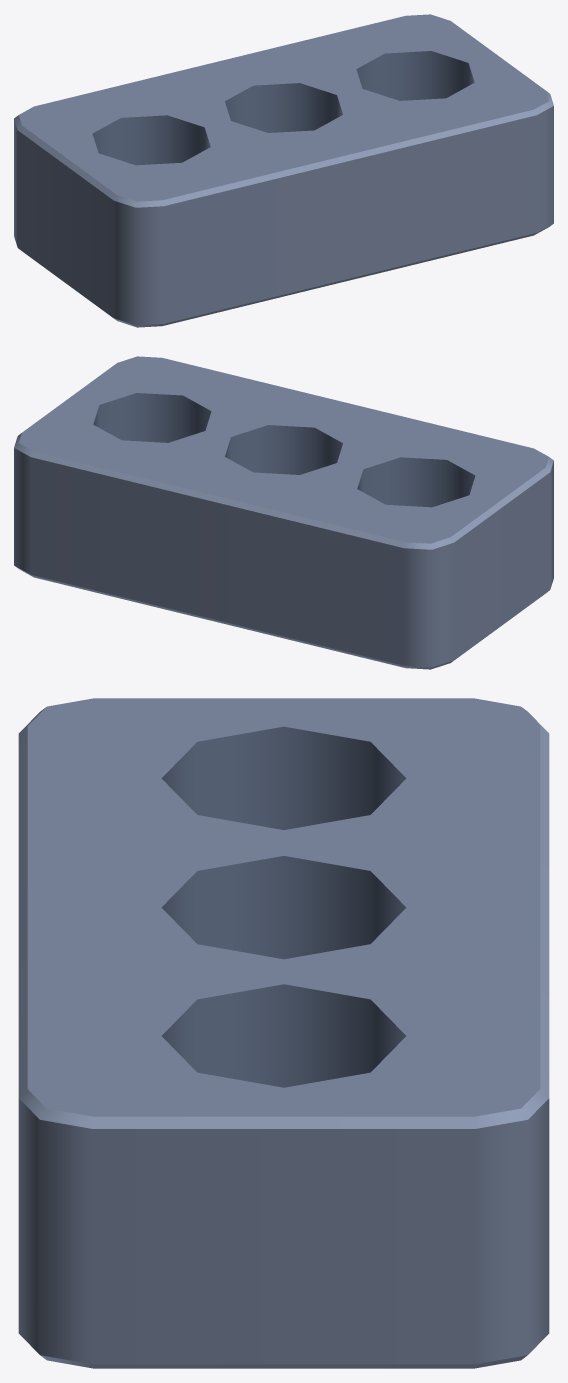
File: Brick.fbx
The picture shows the model from 3 angles, top to bottom: view 1: azimuth 30°, elevation 25°; view 2: azimuth 150°, elevation 25°; view 3: azimuth 270°, elevation 25°; orthographic projection. The views are drawn at different scales.
Visible parts, largest first — view 1: Cube.039; view 2: Cube.039; view 3: Cube.039.
Part boxes in pixels (x1=…): Cube.039: x1=14, y1=14, x2=553, y2=327; Cube.039: x1=14, y1=356, x2=553, y2=669; Cube.039: x1=18, y1=698, x2=549, y2=1368.
Bounding box in the file's own units: 95.85 × 26.42 × 50.48.
